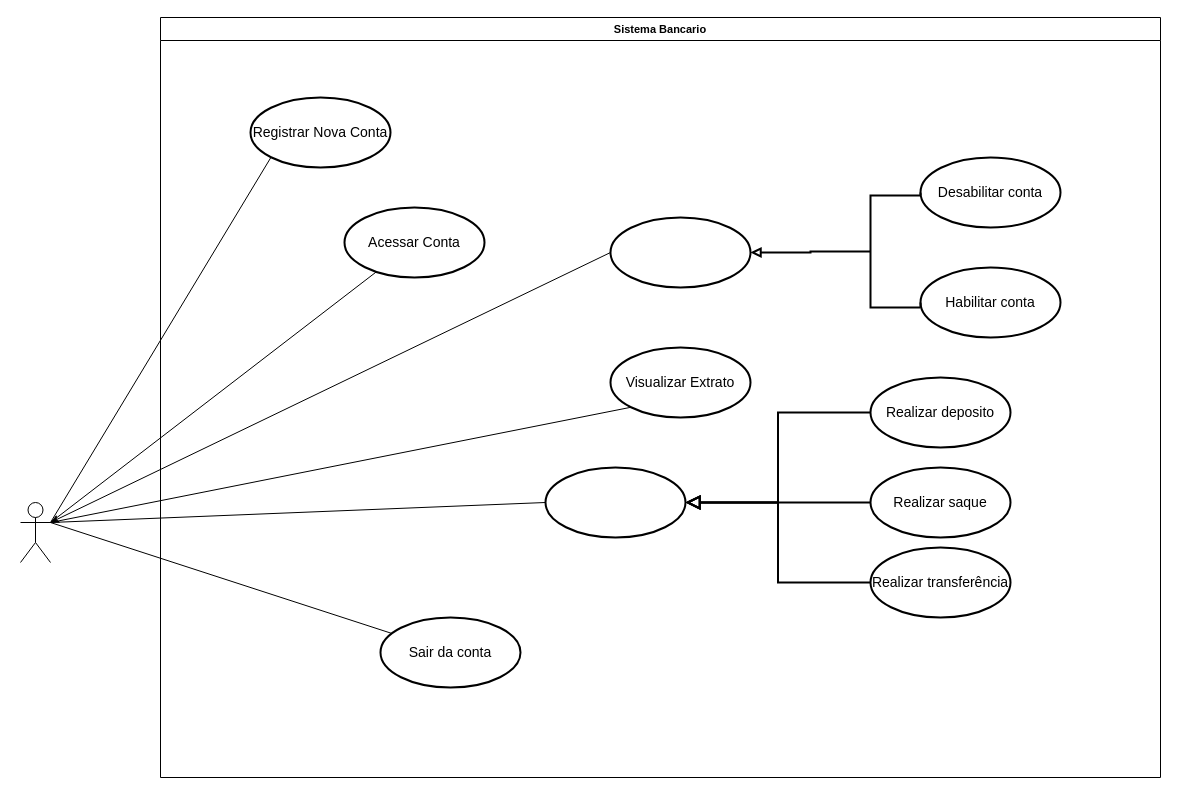
This 1178x795 diagram has some shape labels left out. Each missing label, with the centre of its shape:
"Alterar status da conta" goes at point (680, 252).
"Cliente" goes at point (35, 532).
"Realizar Operação" goes at point (615, 502).
